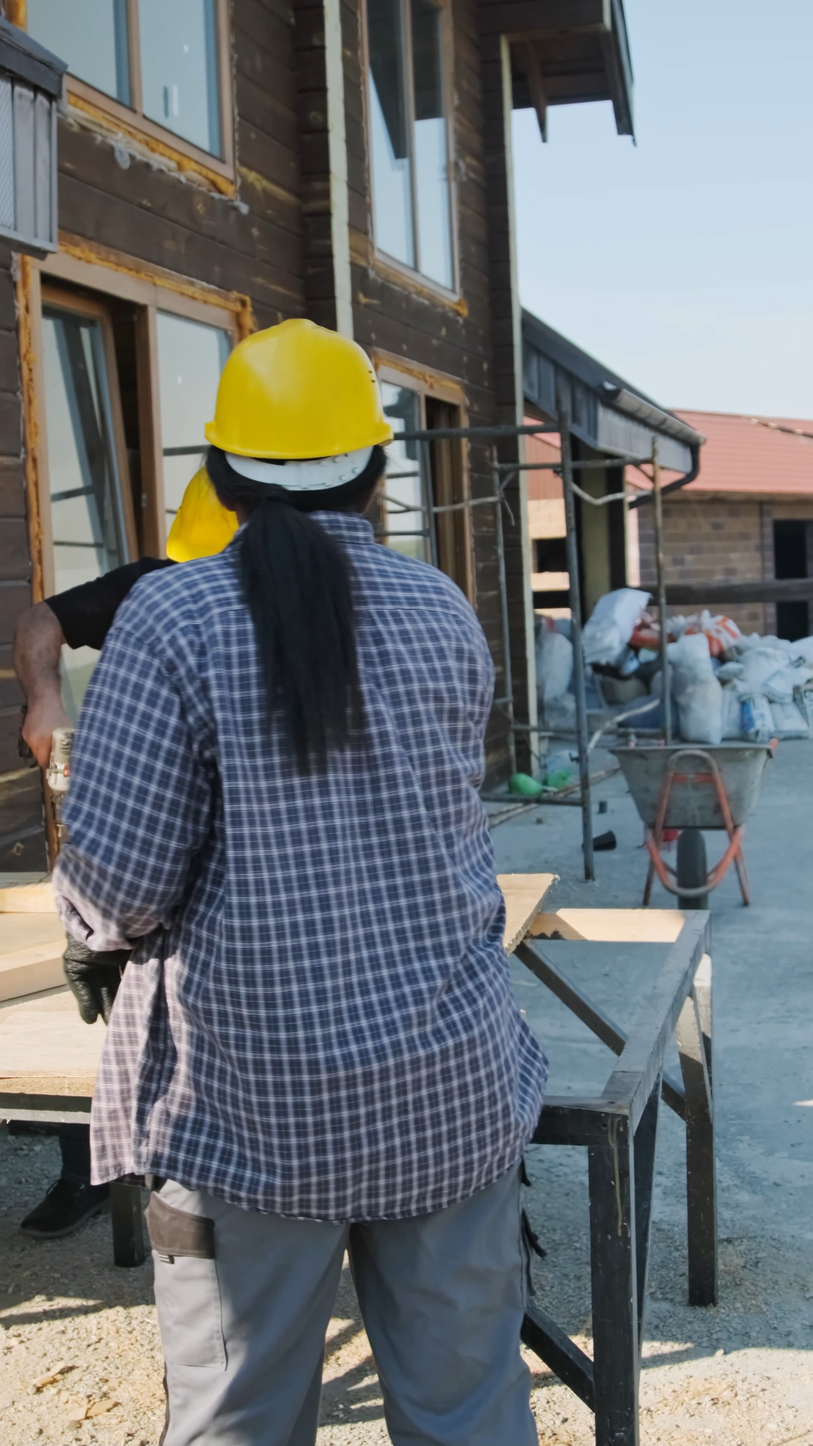No-gloves: (19, 687, 94, 785)
